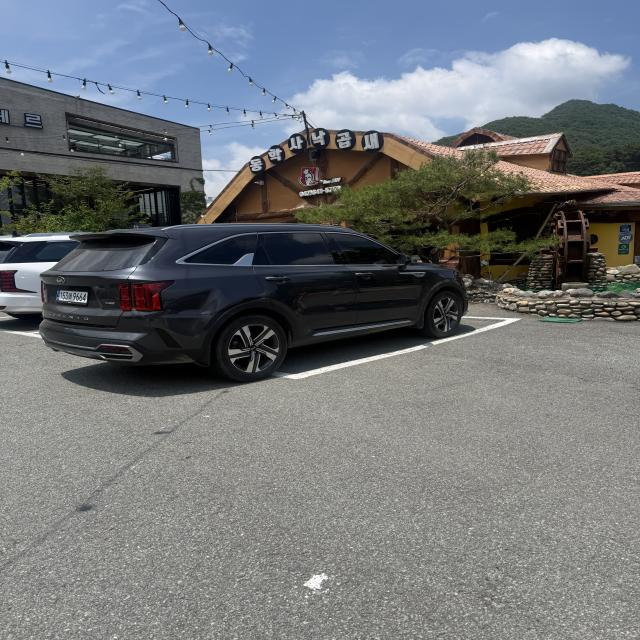car: (37, 216, 475, 388), (0, 222, 105, 328)
